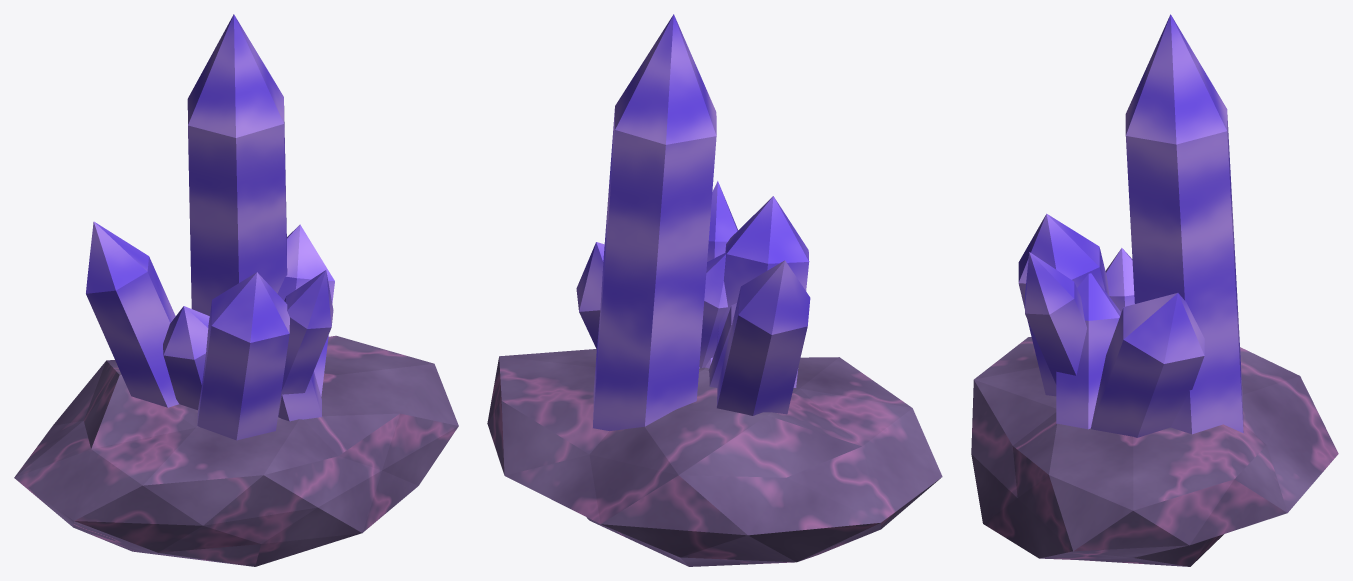
Rendered from GIN_UG_Crystals.fbx.
3 renders of one model, left to right at view 1: azimuth 30°, elevation 25°; view 2: azimuth 150°, elevation 25°; view 3: azimuth 270°, elevation 25°, orthographic. The views are drawn at different scales.
Visible parts, largest first — view 1: GIN_UG_Crystals; view 2: GIN_UG_Crystals; view 3: GIN_UG_Crystals.
Boxes of the visible parts, <box> form: GIN_UG_Crystals: <box>14,14,458,566</box>; GIN_UG_Crystals: <box>487,14,942,566</box>; GIN_UG_Crystals: <box>971,14,1338,566</box>.
Bounding box in the file's own units: 1.63 × 1.97 × 1.25.
